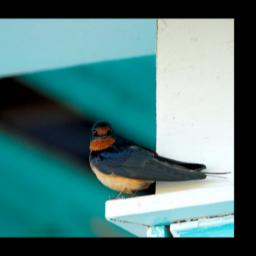Swallow: (85, 116, 232, 198)
